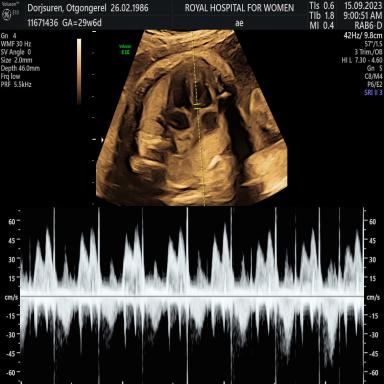Ultrasound-Waves: (24, 206, 362, 384)
